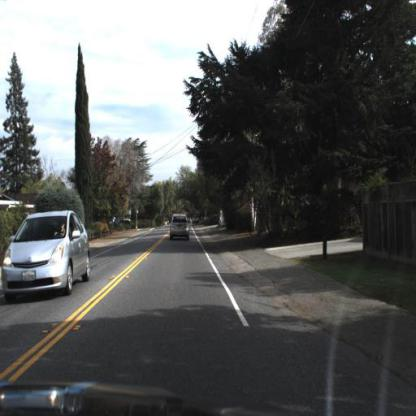car: (2, 211, 92, 303), (169, 212, 192, 241)
